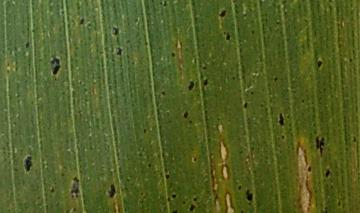tarspot: (311, 132, 329, 157), (21, 150, 36, 177), (68, 173, 81, 200), (48, 54, 62, 78), (276, 110, 287, 130), (105, 182, 118, 197), (221, 29, 234, 44), (244, 190, 256, 204), (115, 44, 124, 61), (186, 79, 196, 94), (216, 8, 229, 19), (314, 57, 324, 71), (111, 24, 121, 38), (22, 38, 32, 52), (180, 108, 191, 120), (322, 166, 332, 179), (239, 100, 252, 110), (201, 77, 211, 90), (304, 163, 314, 176), (278, 131, 288, 144), (76, 16, 87, 27), (158, 87, 168, 99), (162, 171, 173, 181), (169, 191, 179, 202), (167, 50, 179, 59), (187, 204, 197, 213), (191, 194, 199, 205)
